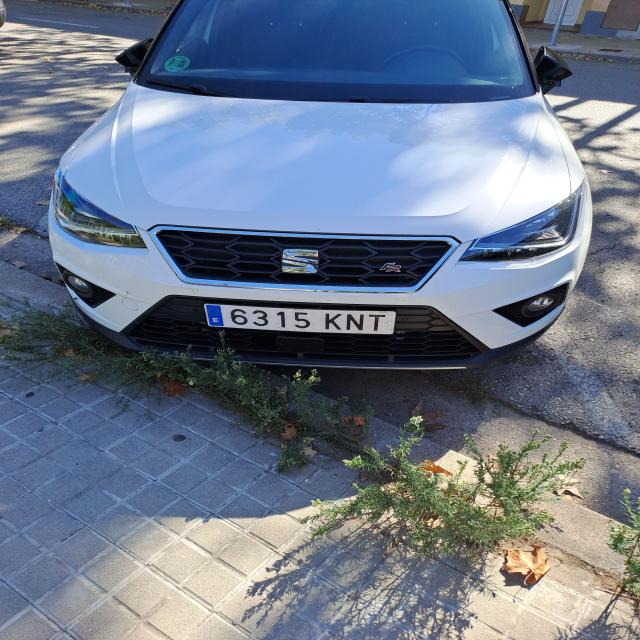license_plate-34Td: (204, 304, 396, 335)
